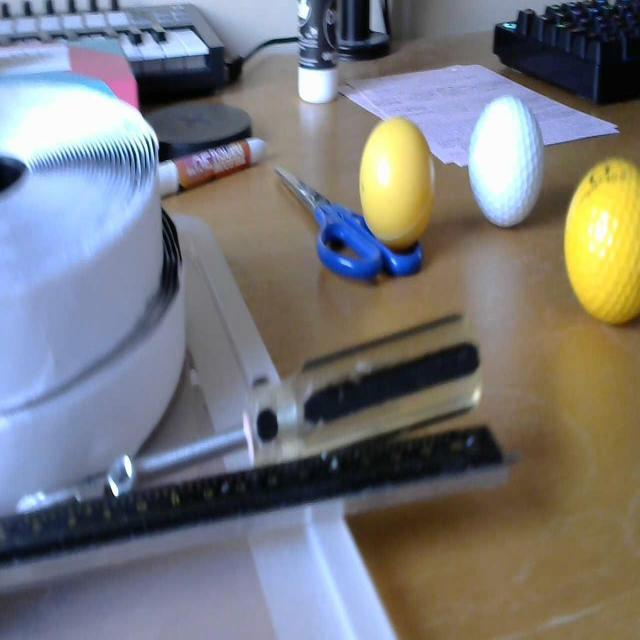golfball: (558, 145, 640, 353), (462, 88, 552, 244), (357, 111, 441, 254)
